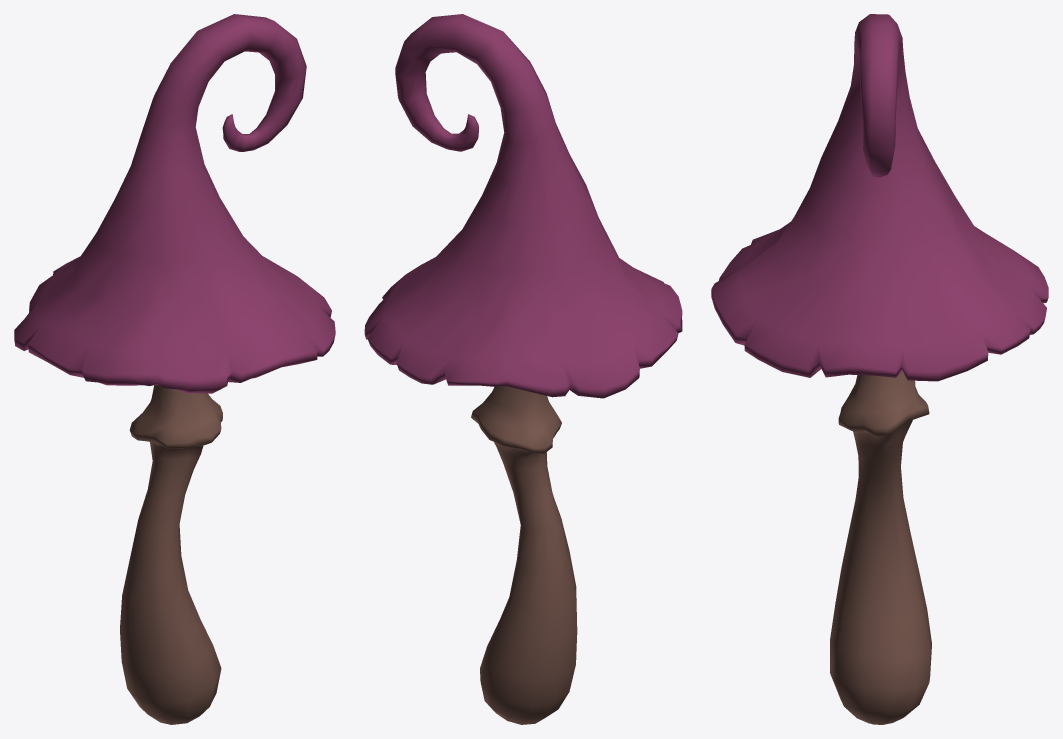
Rendered from hatshroom_low.fbx.
3 views of the same model, side by side, from view 1: azimuth 30°, elevation 25°; view 2: azimuth 150°, elevation 25°; view 3: azimuth 270°, elevation 25° (orthographic). The views are drawn at different scales.
Parts seen in each view (by area): view 1: hatshroomcap_low, hatshroomstem_low; view 2: hatshroomcap_low, hatshroomstem_low; view 3: hatshroomcap_low, hatshroomstem_low.
Boxes of the visible parts, box(x1,y1,x2,y2) form: hatshroomcap_low: box(14, 14, 335, 393); hatshroomstem_low: box(120, 384, 222, 724); hatshroomcap_low: box(364, 14, 682, 398); hatshroomstem_low: box(471, 386, 577, 724); hatshroomcap_low: box(711, 14, 1048, 381); hatshroomstem_low: box(830, 371, 931, 724).
Size of the model in its own units: 0.00174 by 0.00418 by 0.00175.
